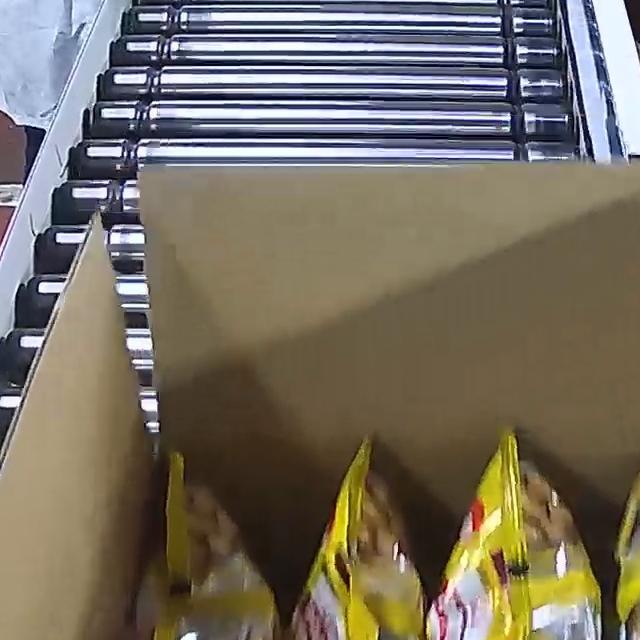salted: (152, 417, 640, 640)
